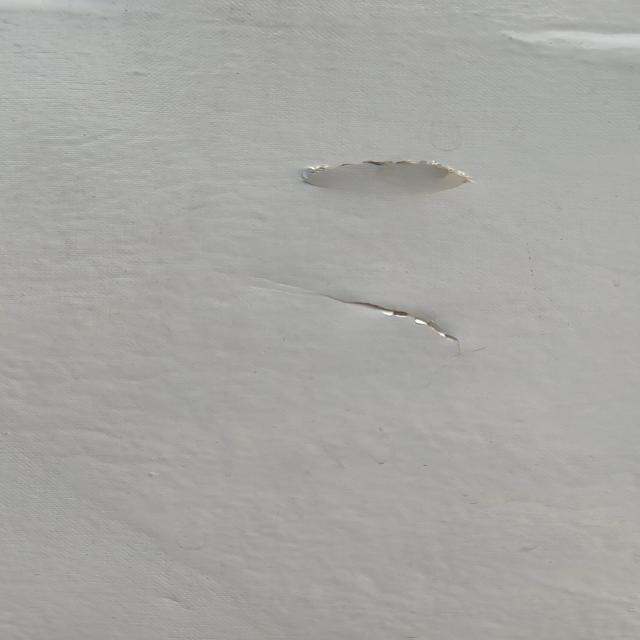Dents or Deformation: (477, 19, 640, 54)
Scratches: (285, 284, 494, 358), (256, 148, 496, 203)
